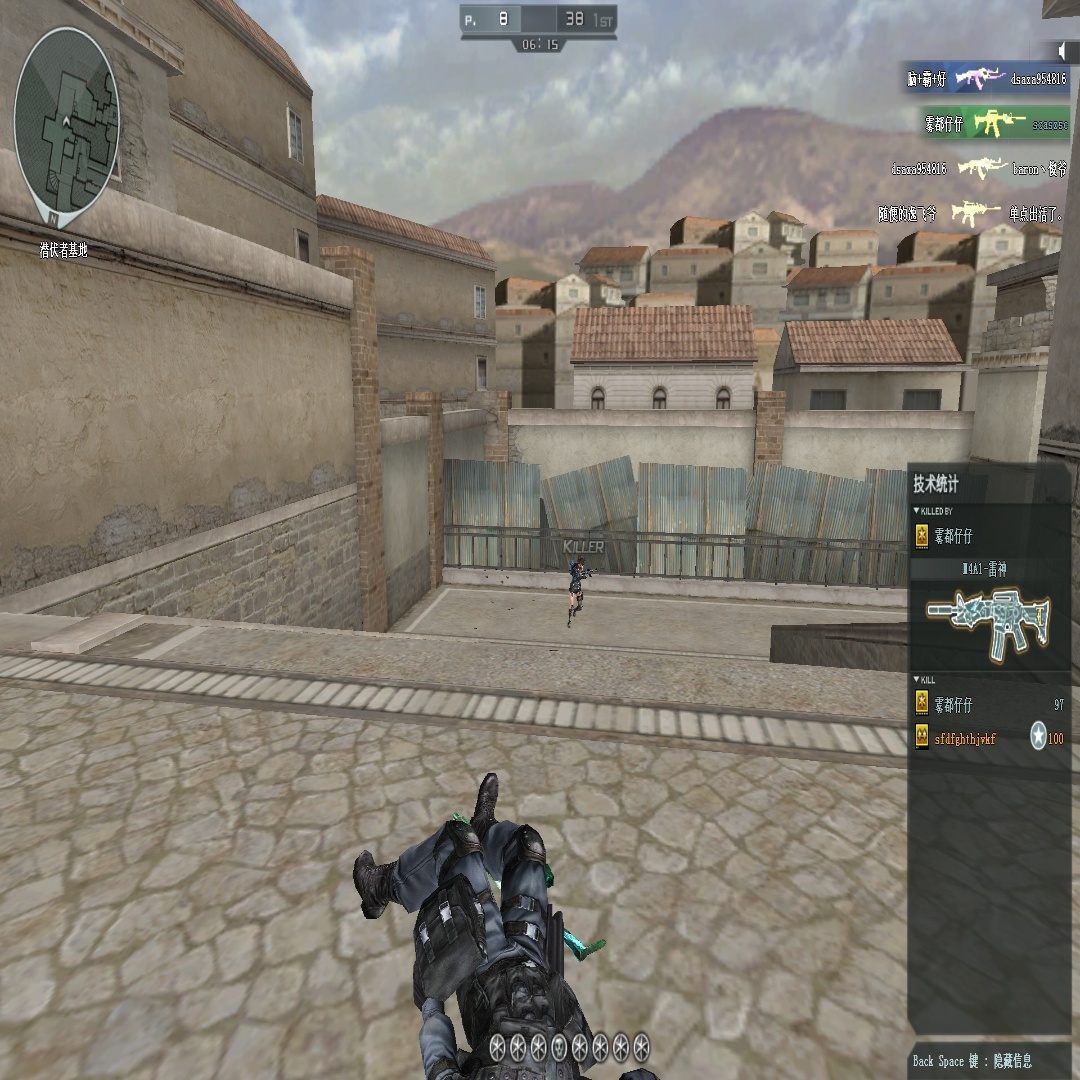p: (566, 552, 587, 623)
